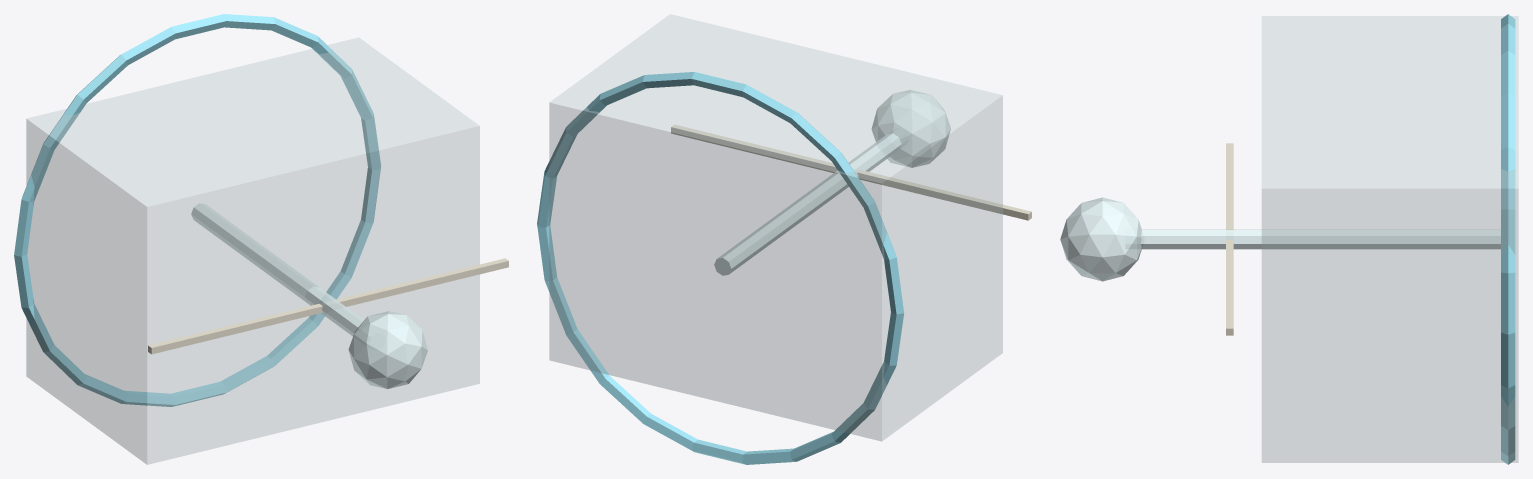
The model's file is 05_dynamic_camera_trigger.glb.
3 renders of one model, left to right at view 1: azimuth 30°, elevation 25°; view 2: azimuth 150°, elevation 25°; view 3: azimuth 270°, elevation 25°, orthographic. The views are drawn at different scales.
Visible parts, largest first — view 1: camera_trigger_volume, combat_start_ring, focus_target, focus_target_pole, camera_axis; view 2: camera_trigger_volume, combat_start_ring, focus_target, focus_target_pole, camera_axis; view 3: camera_trigger_volume, focus_target_pole, combat_start_ring, focus_target, camera_axis.
Boxes of the visible parts, x1,y1,x2,y2 form: camera_trigger_volume: (26, 37, 479, 464); combat_start_ring: (14, 14, 380, 406); focus_target: (348, 311, 427, 389); focus_target_pole: (191, 203, 364, 336); camera_axis: (148, 258, 508, 354); camera_trigger_volume: (549, 14, 1002, 441); combat_start_ring: (537, 72, 904, 464); focus_target: (871, 90, 950, 167); focus_target_pole: (714, 133, 901, 275); camera_axis: (671, 124, 1031, 220); camera_trigger_volume: (1262, 16, 1518, 462); focus_target_pole: (1141, 229, 1500, 249); combat_start_ring: (1501, 14, 1515, 464); focus_target: (1060, 197, 1141, 281); camera_axis: (1226, 143, 1233, 335).
Bounding box in the file's own units: 1.49 × 1.47 × 1.51.
